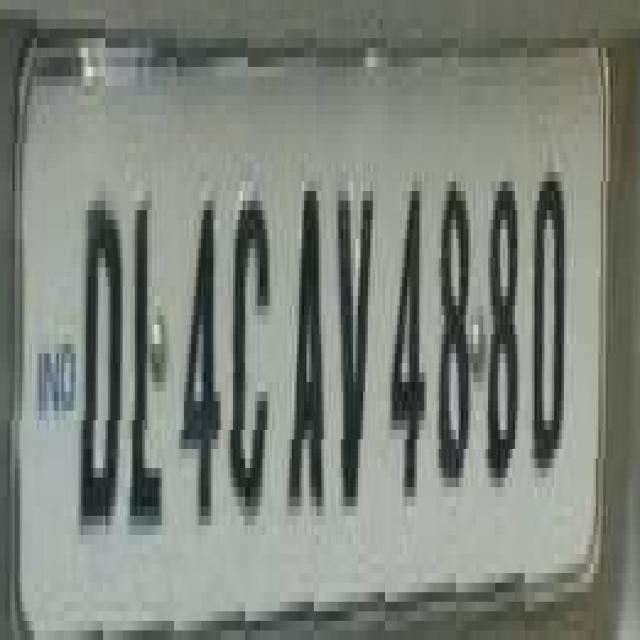license_plate: (2, 0, 604, 640)
